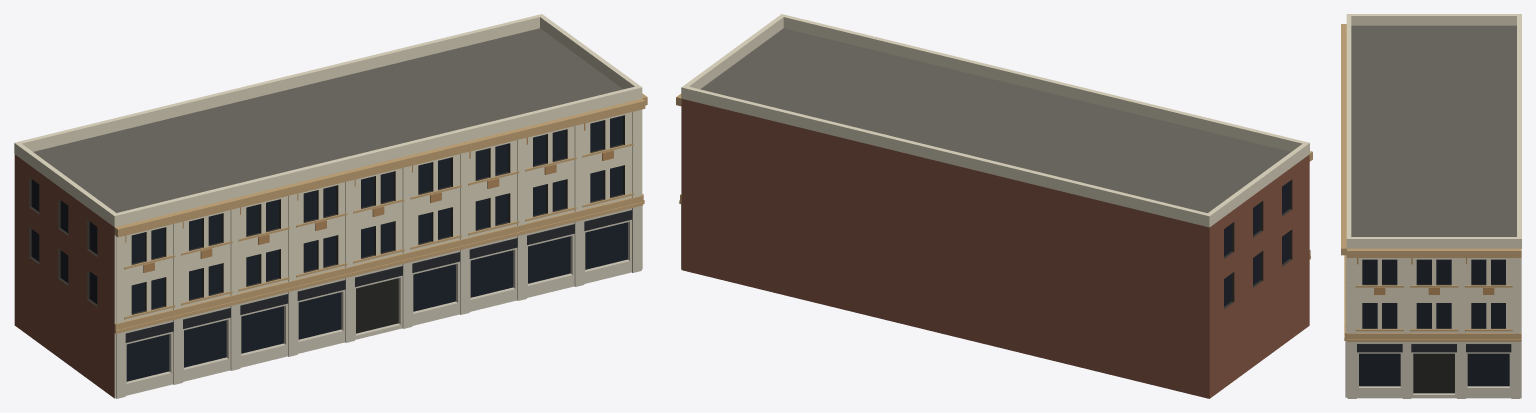
File: furniture-company-building.glb
The picture shows the model from 3 angles, left to right: view 1: azimuth 30°, elevation 25°; view 2: azimuth 150°, elevation 25°; view 3: azimuth 270°, elevation 25°; orthographic projection. The views are drawn at different scales.
Visible parts, largest first — view 1: furniture_brick, furniture_roof, furniture_glass, furniture_stone, furniture_brick2, furniture_trim, furniture_sign, furniture_sash, furniture_dark, furniture_trim2; view 2: furniture_brick2, furniture_roof, furniture_brick, furniture_glass, furniture_sash; view 3: furniture_roof, furniture_brick, furniture_glass, furniture_trim, furniture_stone, furniture_dark, furniture_sign, furniture_trim2, furniture_sash.
Part boxes in pixels (x1,y1,x2,y2): furniture_brick: (14,14,642,323); furniture_roof: (33,28,622,212); furniture_glass: (31,115,627,381); furniture_stone: (114,205,642,398); furniture_brick2: (14,154,114,398); furniture_trim: (114,93,647,333); furniture_sign: (125,210,632,342); furniture_sash: (29,115,624,314); furniture_dark: (356,278,398,333); furniture_trim2: (125,123,613,272); furniture_brick2: (681,99,1309,398); furniture_roof: (700,28,1290,212); furniture_brick: (681,14,1309,227); furniture_glass: (1224,181,1289,306); furniture_sash: (1224,179,1292,308); furniture_roof: (1351,25,1516,236); furniture_brick: (1346,14,1521,333); furniture_glass: (1359,259,1509,386); furniture_trim: (1341,24,1521,341); furniture_stone: (1345,341,1521,398); furniture_dark: (1413,353,1454,393); furniture_sign: (1357,344,1511,352); furniture_trim2: (1357,258,1494,294); furniture_sash: (1362,284,1505,328).
Bounding box in the file's own units: 42.47 × 13.9 × 14.27.
